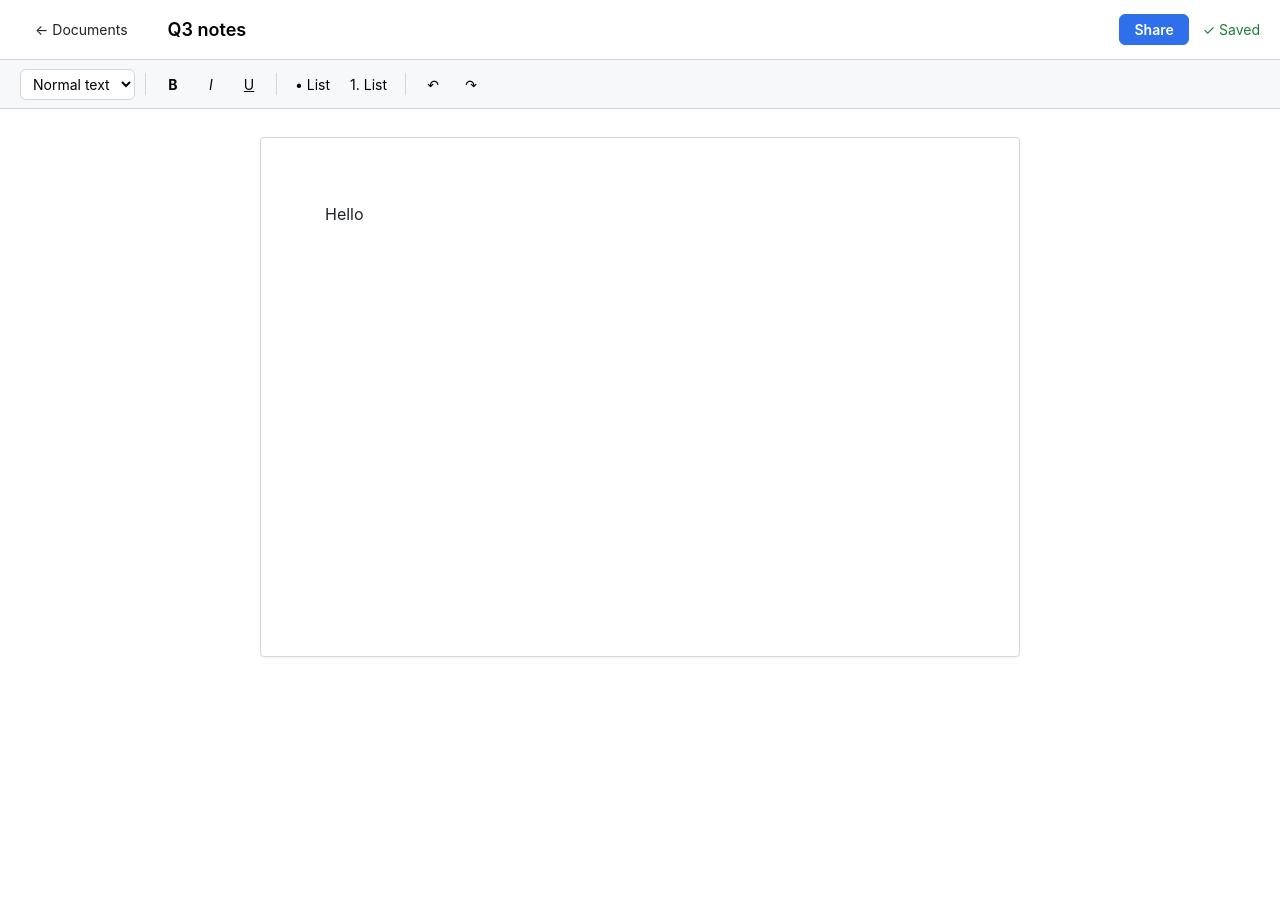
Test case: sharing in the editor › adds a person and shows them in the list
Click the button "Share" at (1154, 30), box left=1120, top=14, right=1189, bottom=45
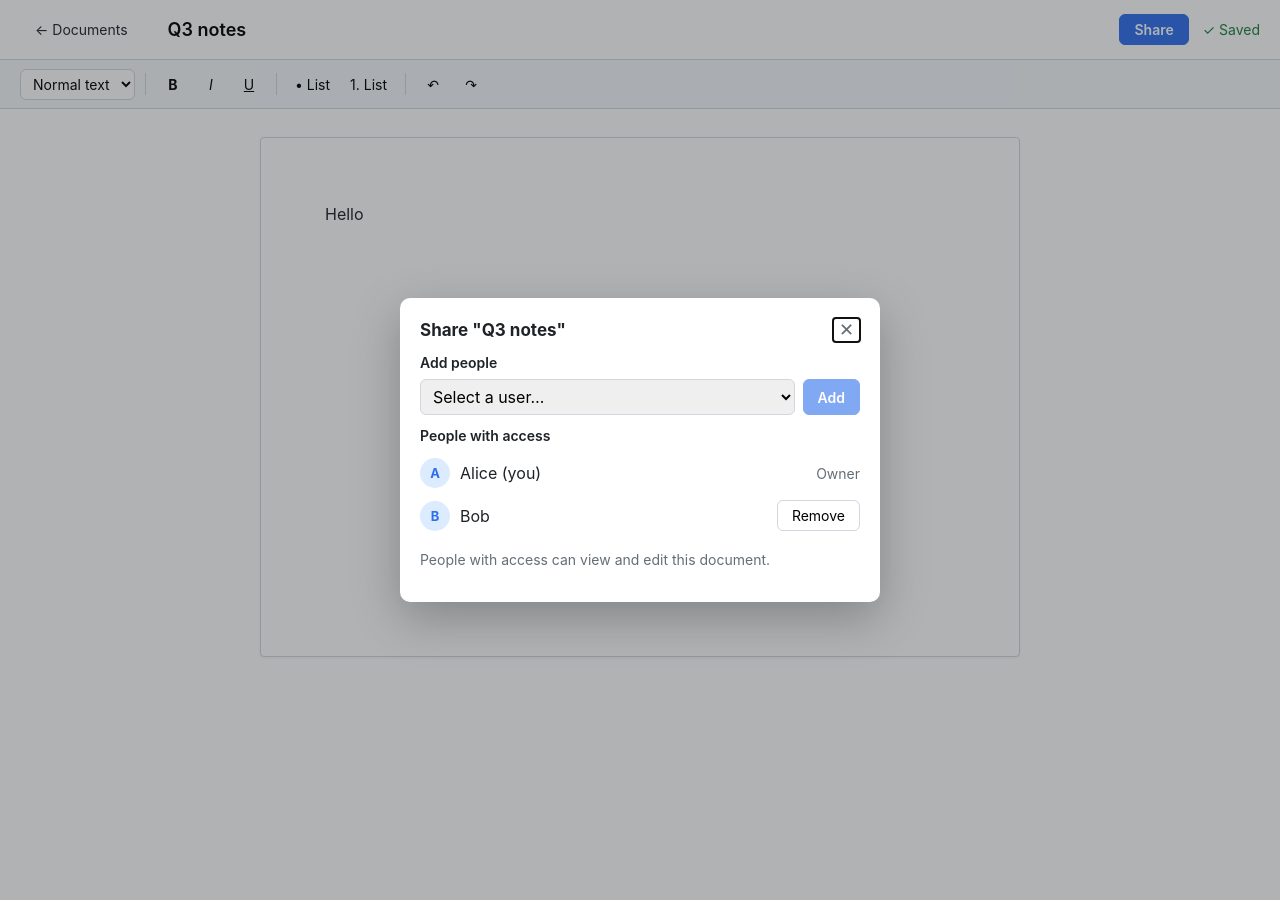
Expected: the list named "People with access" is shown, left=420, top=452, right=860, bottom=537
Select "Carol" in the dropdown labelled "Add people" at (607, 397), box left=420, top=379, right=794, bottom=415
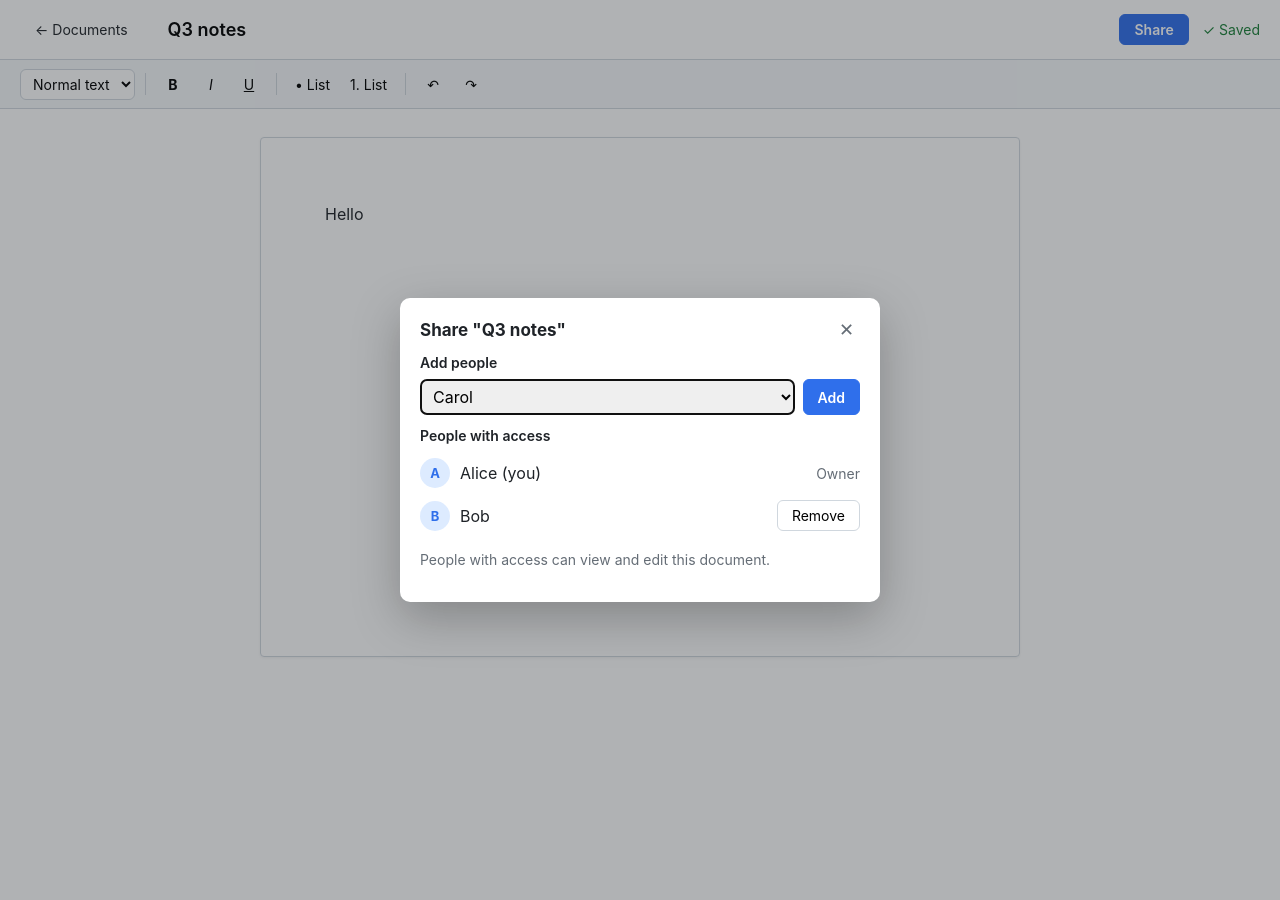
Click the button "Add" at (831, 397), box left=802, top=379, right=860, bottom=415
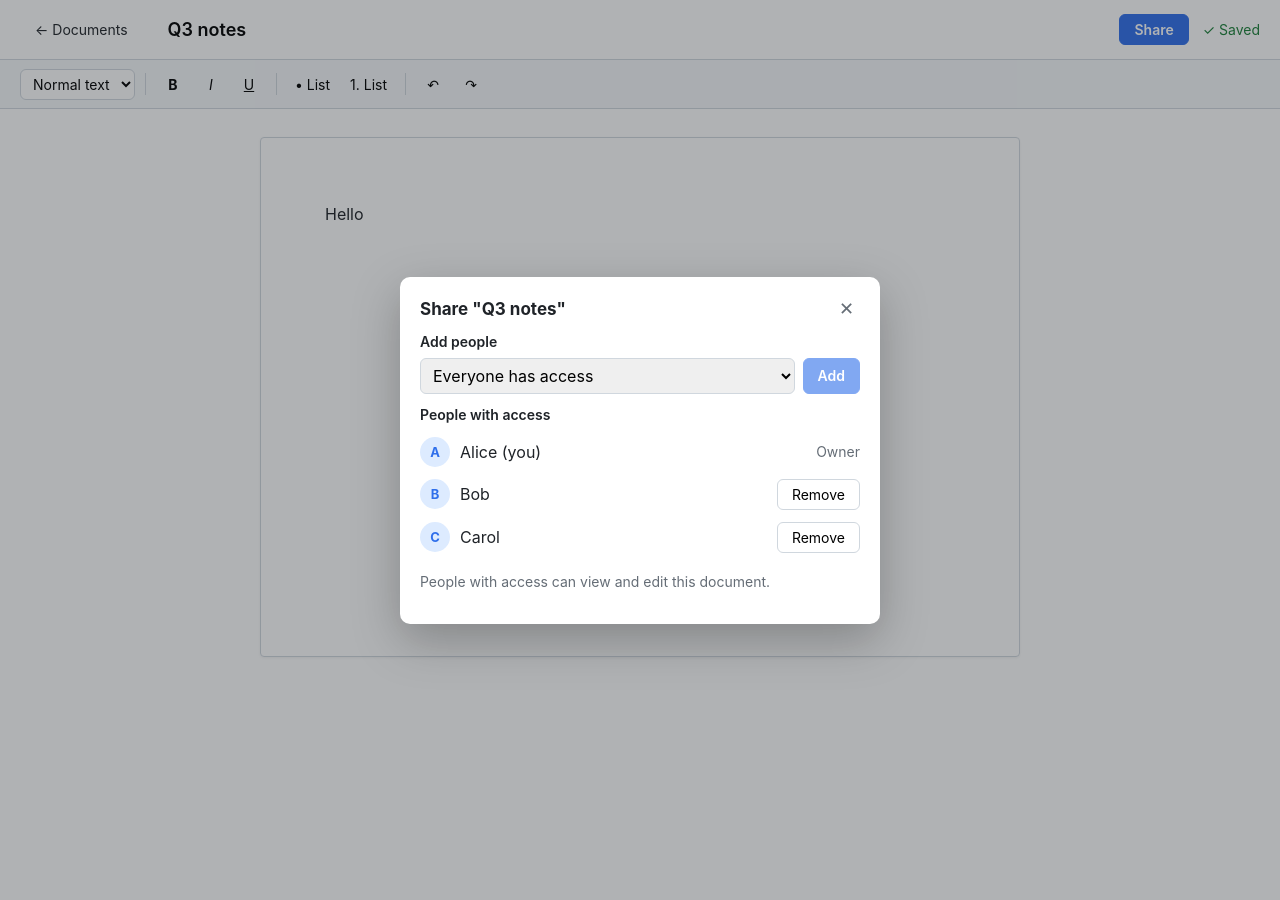
Expected: the button with aria-label "Remove Carol" is shown, left=777, top=522, right=860, bottom=552
